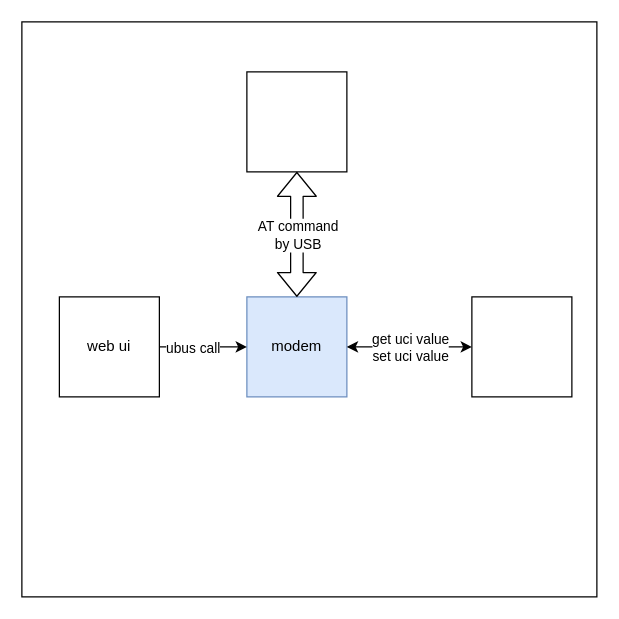
The diagram is 619 pixels wide and 619 high, and some of its shapes have lost their labels. Here are the shapes that lost their labels. From the top down, the box of each, then its label:
(246, 71, 347, 172): modem chip
(471, 296, 572, 397): uci config file
